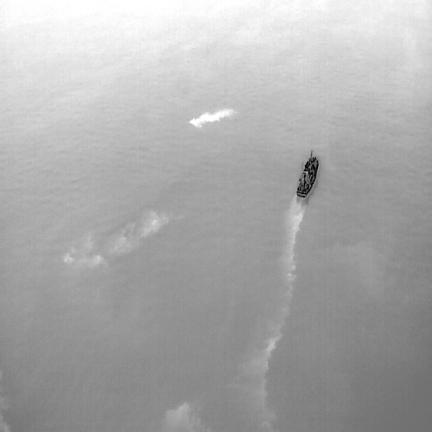flukeprints: (189, 109, 236, 127)
